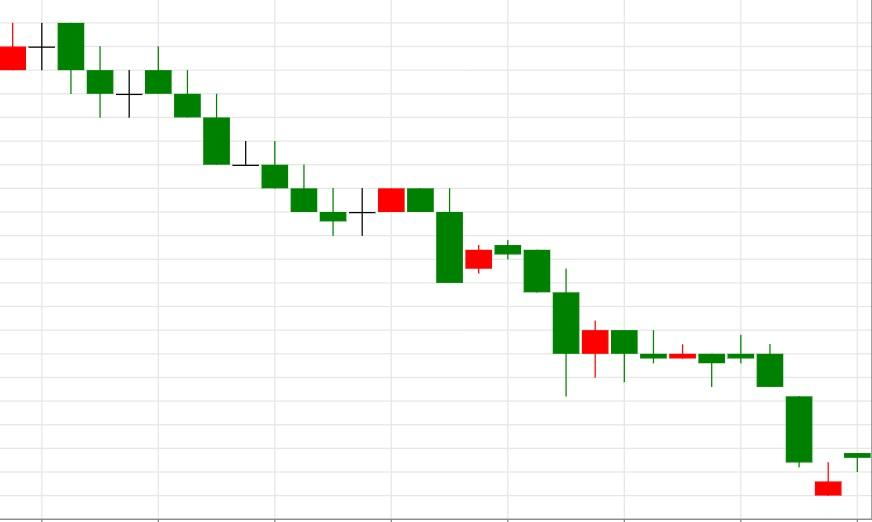three_black_crows_fall: (87, 47, 231, 165)
